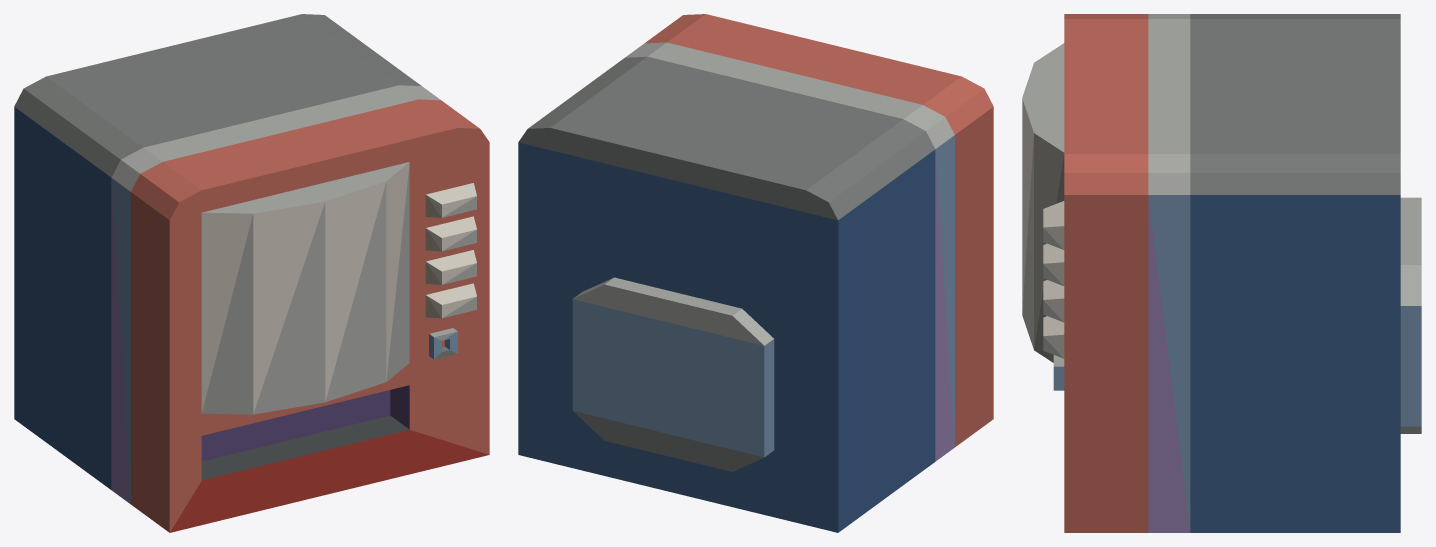
The model's file is vending-machine.glb.
3 views of the same model, side by side, from view 1: azimuth 30°, elevation 25°; view 2: azimuth 150°, elevation 25°; view 3: azimuth 270°, elevation 25° (orthographic). The views are drawn at different scales.
Bounding box in the file's own units: 1 × 1 × 1.
